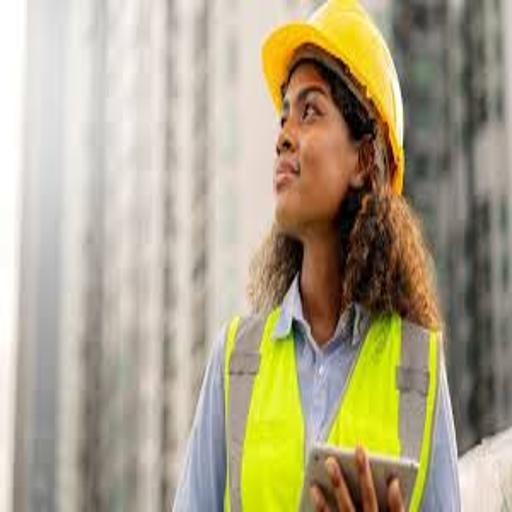Hard_hat: (252, 4, 455, 200)
Humans: (157, 144, 480, 512)
Vest: (193, 258, 450, 512)
